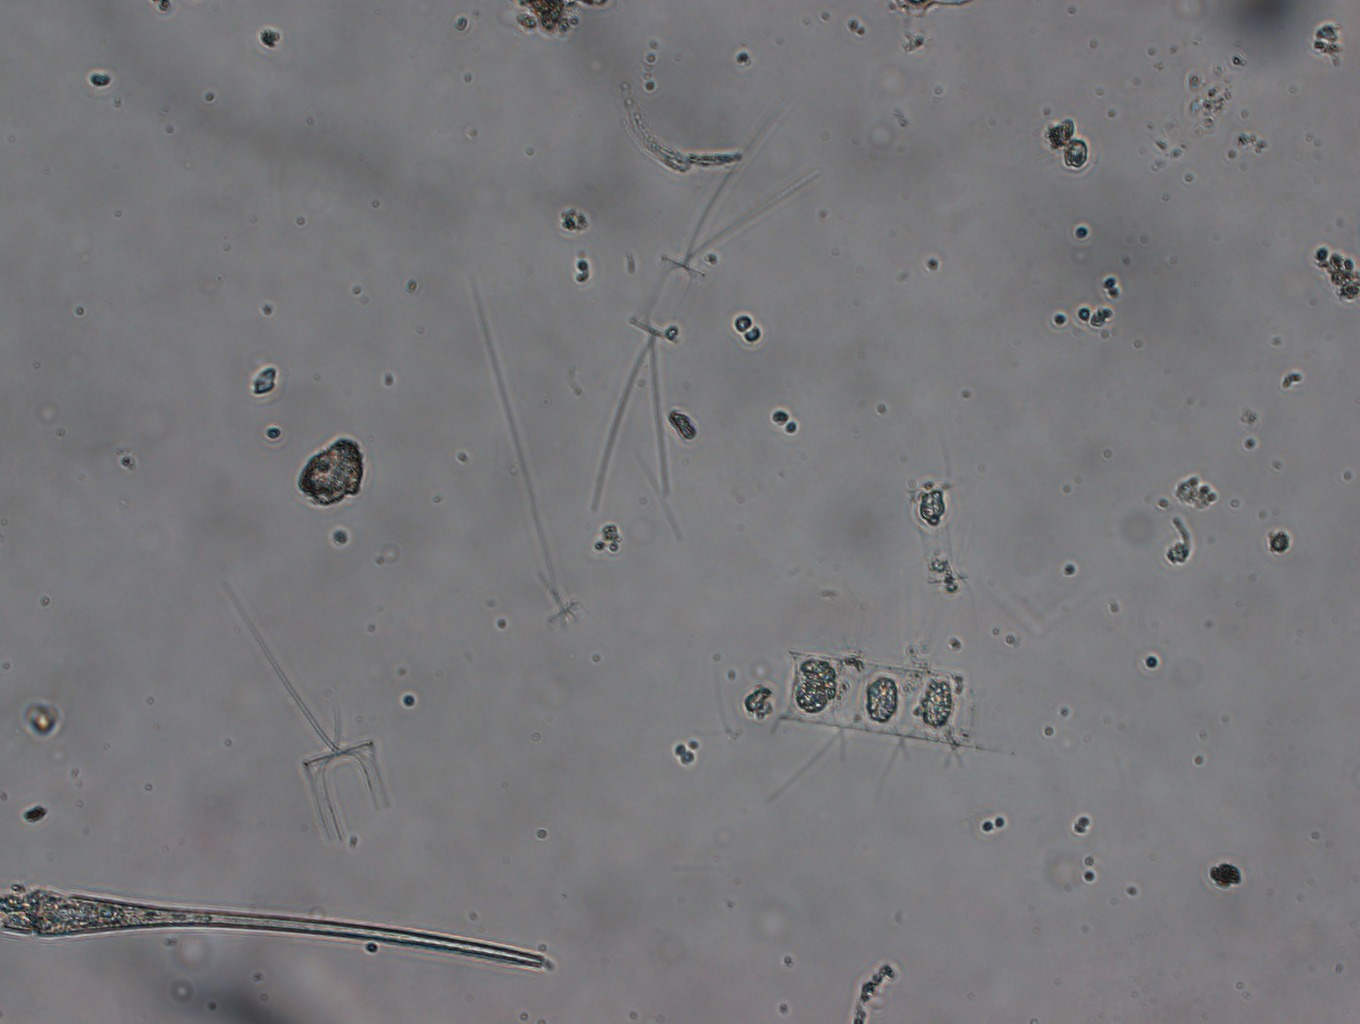ceratium fusus: (1, 873, 553, 976)
chaetoceros: (579, 109, 797, 530), (730, 624, 1065, 803)
